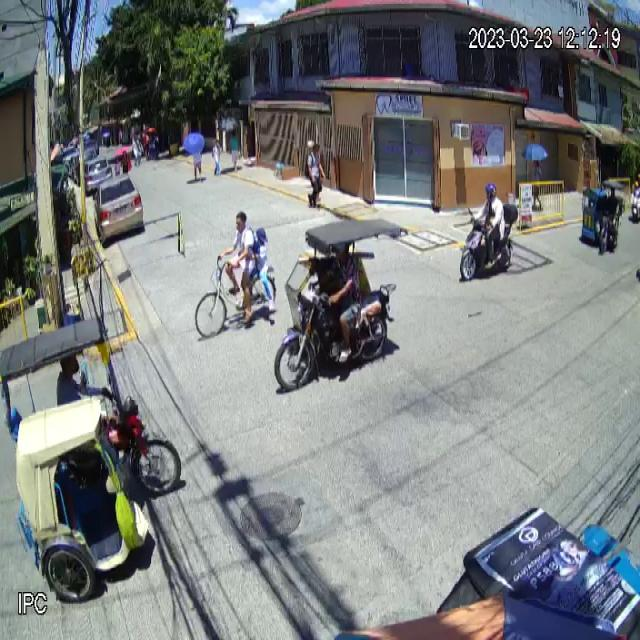Car: (94, 172, 144, 243)
Motorcycle: (459, 203, 519, 280)
Tricycle: (2, 318, 181, 602), (274, 218, 404, 390), (581, 180, 625, 255)
